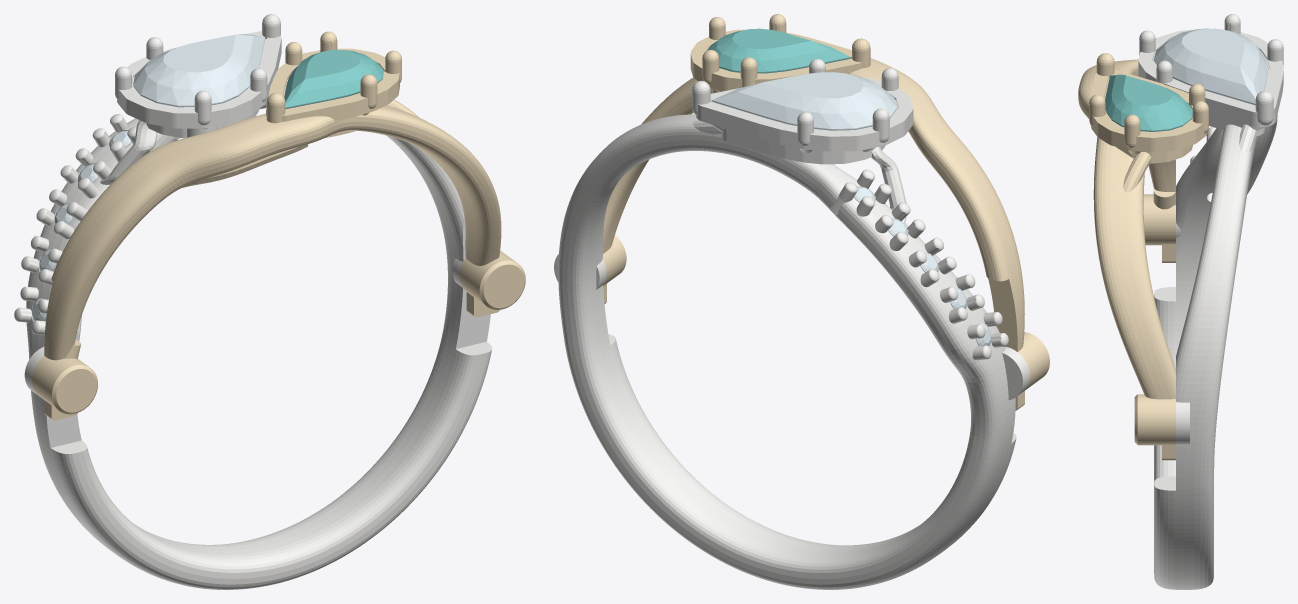
Rendered from Assembly.glb.
The picture shows the model from 3 angles, left to right: view 1: azimuth 30°, elevation 25°; view 2: azimuth 150°, elevation 25°; view 3: azimuth 270°, elevation 25°; orthographic projection. The views are drawn at different scales.
Parts seen in each view (by area): view 1: White, Champagne, PearWhite, PearTeal; view 2: White, Champagne, PearWhite, PearTeal; view 3: White, Champagne, PearWhite, PearTeal.
Part boxes in pixels (box(x1,y1,x2,y2)): White: box(14, 14, 492, 589); Champagne: box(32, 31, 525, 420); PearWhite: box(133, 34, 265, 107); PearTeal: box(284, 50, 383, 108); White: box(554, 58, 1029, 589); Champagne: box(603, 14, 1049, 410); PearWhite: box(712, 72, 897, 130); PearTeal: box(708, 28, 850, 73); White: box(1138, 14, 1283, 589); Champagne: box(1078, 53, 1208, 460); PearWhite: box(1153, 28, 1268, 105); PearTeal: box(1105, 74, 1192, 131).
Size of the model in its own units: 0.021 by 0.022 by 0.00823.
